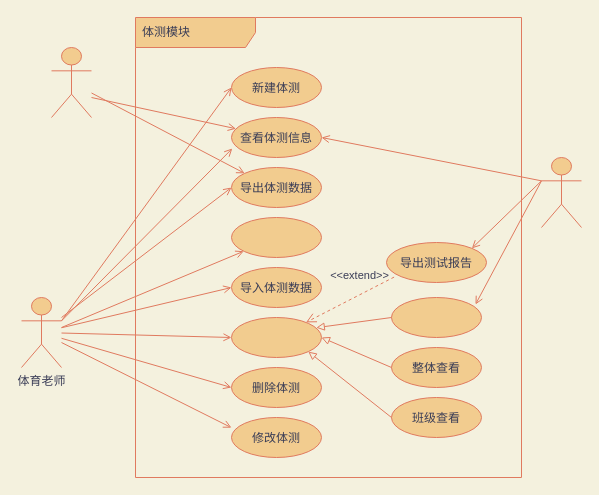
Image size: 599x495. Some labels were removed from this diagram. The shapes that lost their labels are listed below. From the top down, each one's centre as x and y in pixels, then its label:
(x=71, y=82): 系统管理员
(x=561, y=192): 学生
(x=276, y=237): 下载模板文件
(x=276, y=337): 查看体测成绩
(x=436, y=317): 个人查看
